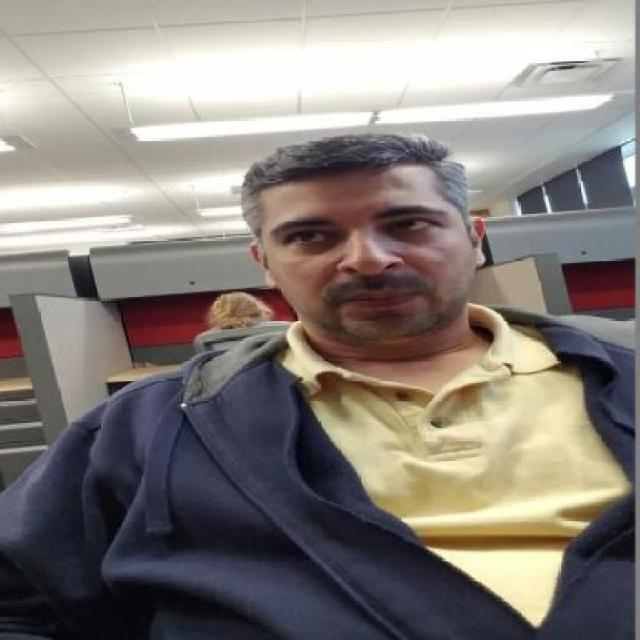awake: (385, 218, 433, 233), (288, 230, 330, 247)
